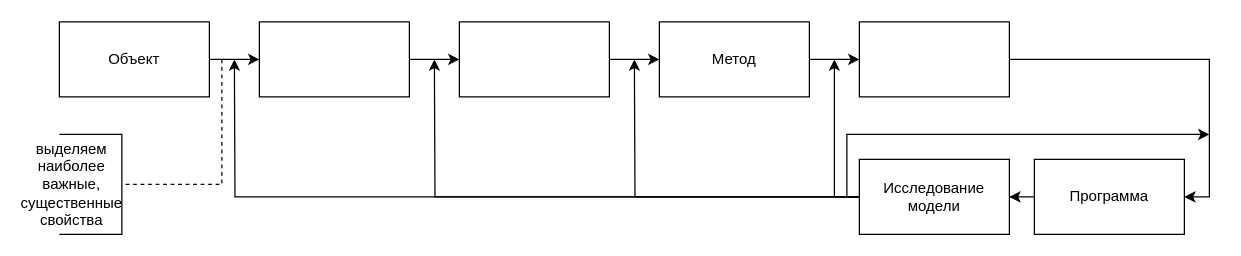
The diagram is 1241 pixels wide and 256 high, and some of its shapes have lost their labels. Here are the shapes that lost their labels. From the top down, the box of each, then its label:
(258, 21, 409, 97): Концептуальная модель
(458, 21, 609, 97): Математическая модель
(858, 21, 1009, 97): Алгоритм
